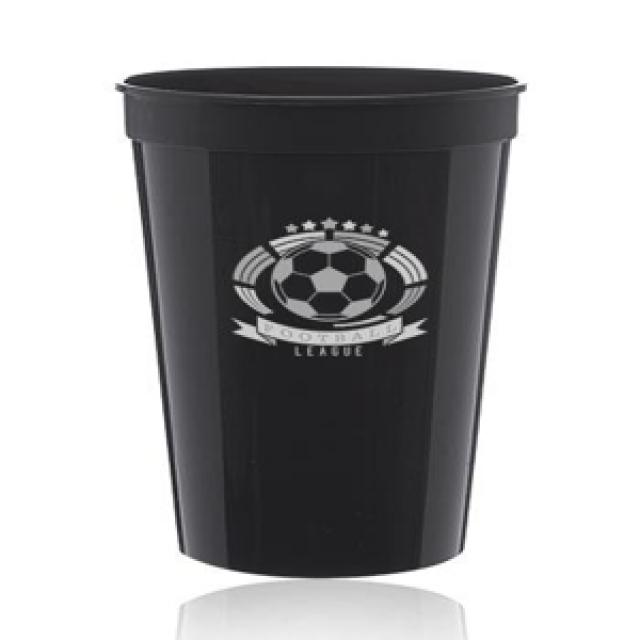plastic cup: (113, 64, 540, 585)
